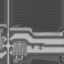dust: (30, 45, 35, 49), (31, 28, 34, 32)
